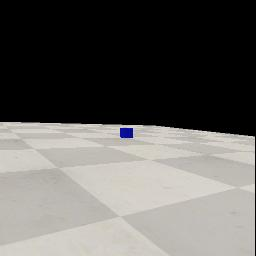box: (120, 128, 133, 138)
